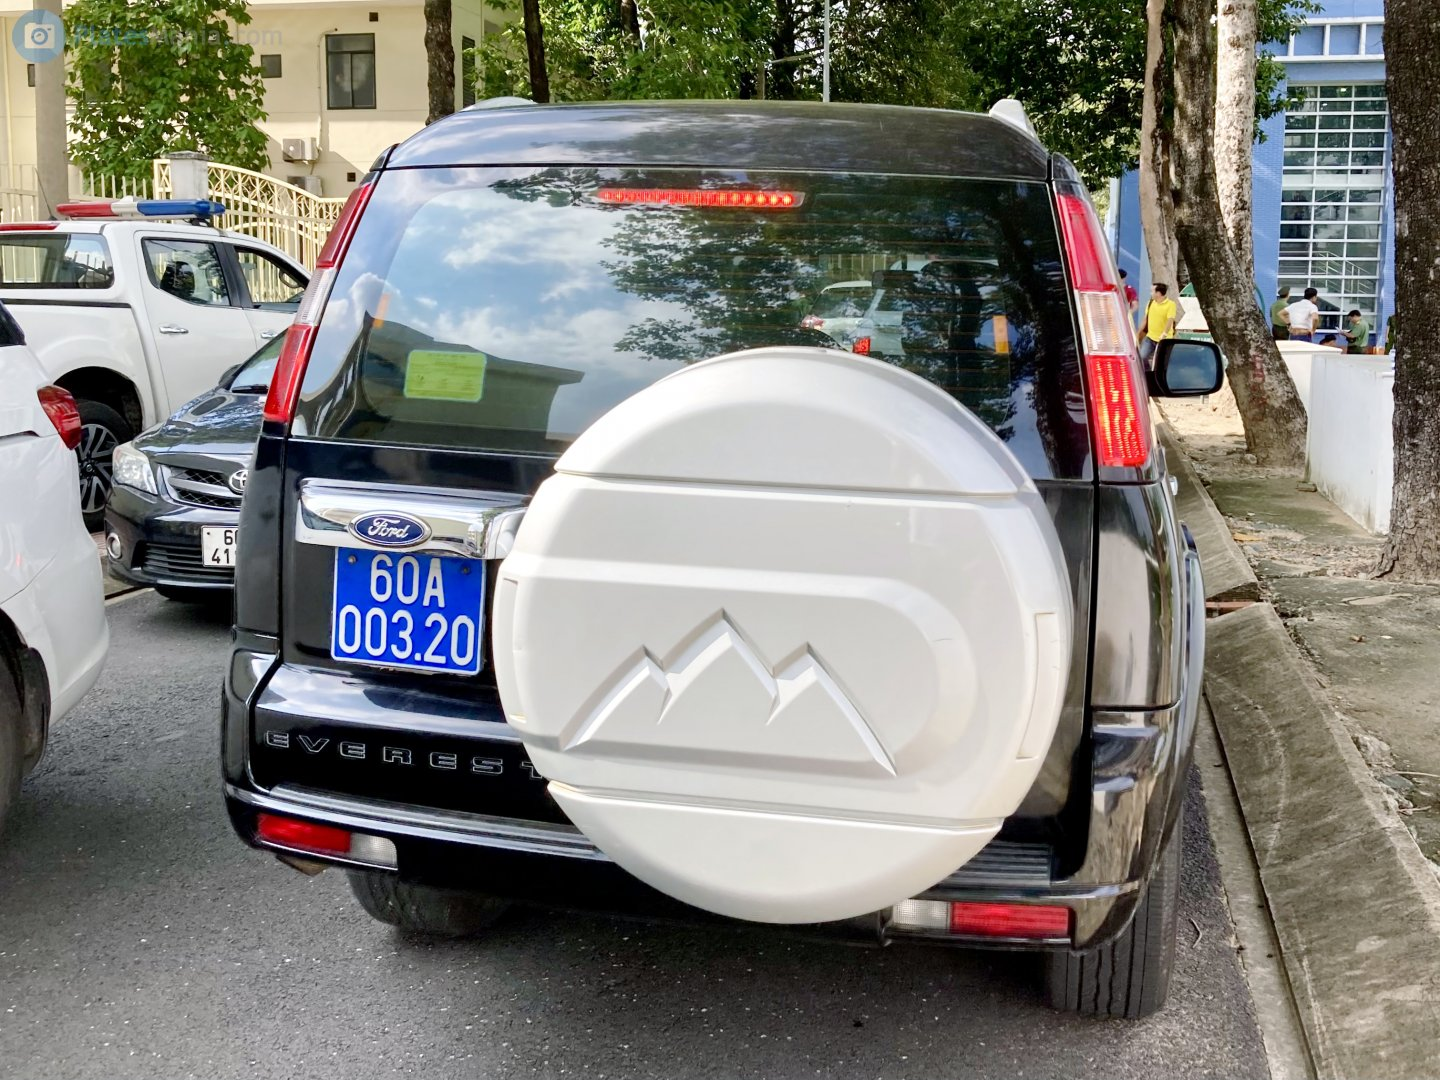bien_so: (332, 544, 483, 674)
